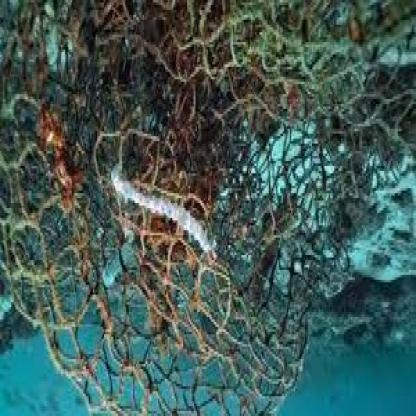net: (1, 2, 400, 414)
